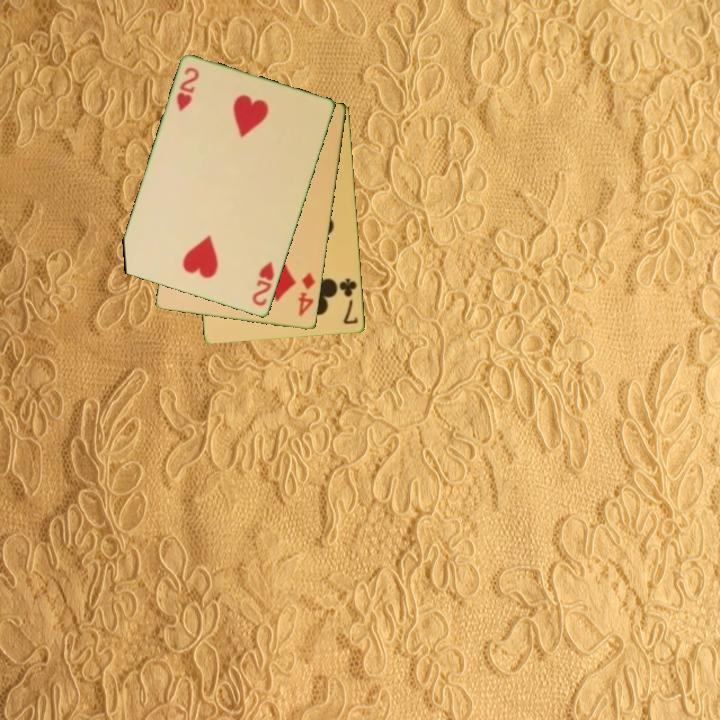2h: (173, 64, 202, 115), (249, 258, 277, 309)
4d: (295, 270, 318, 320)
7c: (336, 275, 361, 328)
